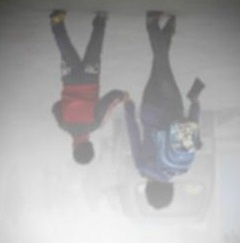person: (123, 10, 206, 211), (48, 7, 128, 166)
